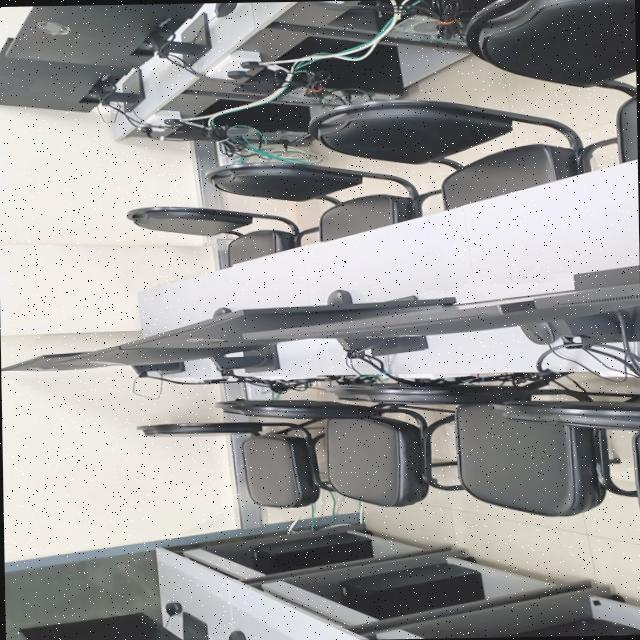Chair: (322, 381, 605, 515), (309, 99, 616, 208), (465, 0, 637, 161), (216, 398, 463, 505), (205, 161, 440, 240), (138, 419, 324, 506), (490, 400, 640, 505), (126, 205, 318, 265), (459, 388, 466, 391)
Cpu: (311, 561, 485, 618), (249, 531, 373, 573)
Monitor: (110, 297, 455, 351), (7, 2, 202, 70), (242, 300, 539, 342), (0, 39, 125, 111), (19, 611, 161, 640), (532, 282, 640, 315), (87, 344, 264, 364), (1, 351, 111, 369), (459, 298, 522, 308)
Mouse: (214, 1, 236, 16), (165, 601, 182, 615), (227, 629, 246, 640)
